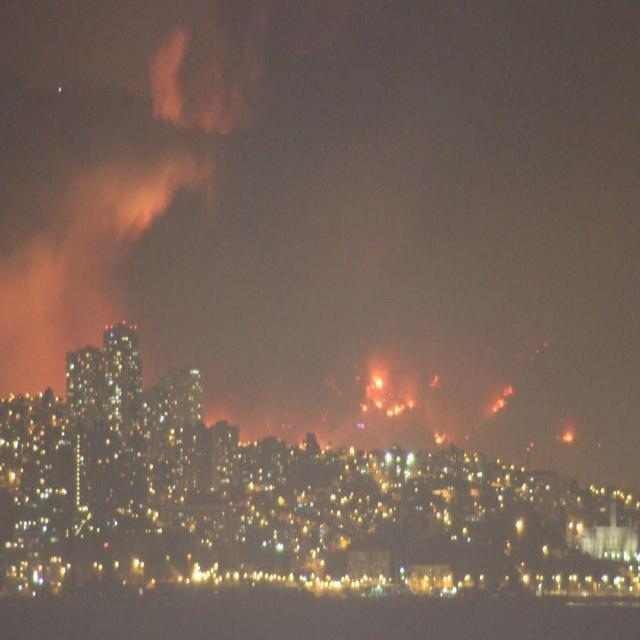Fire: (355, 362, 419, 426), (491, 376, 515, 414), (556, 424, 578, 448), (434, 430, 446, 444)
